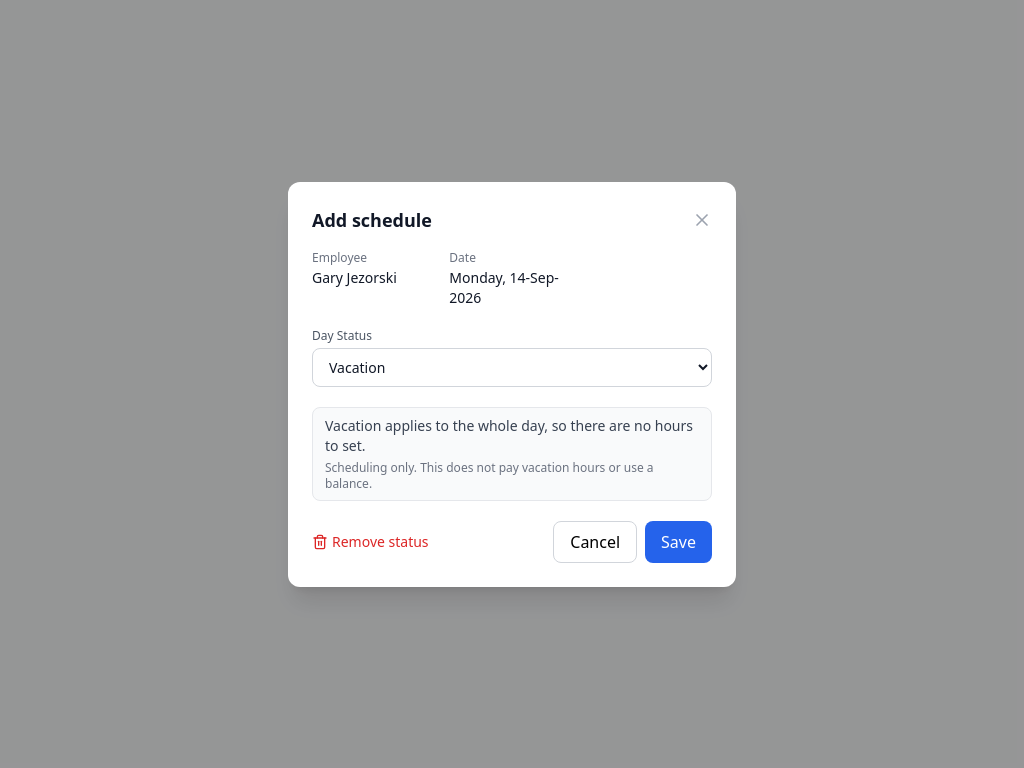
Scenario: ScheduleCellModal — day status selector › switching an existing status back to Working restores the time controls and clears the status first
Later steps or results of the test are not shown.
Select "Working" in the dropdown labelled "Day Status" at [512, 367], box [312,348,712,386]
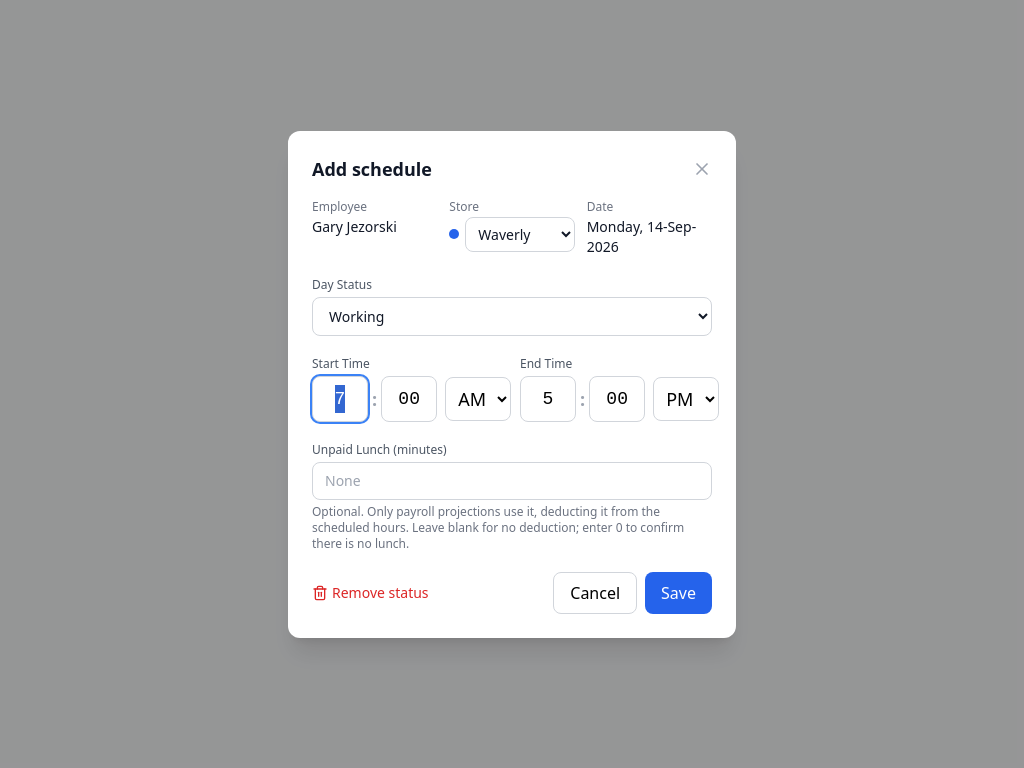
expect the text "Start Time" is shown: met, box [312,354,370,372]
